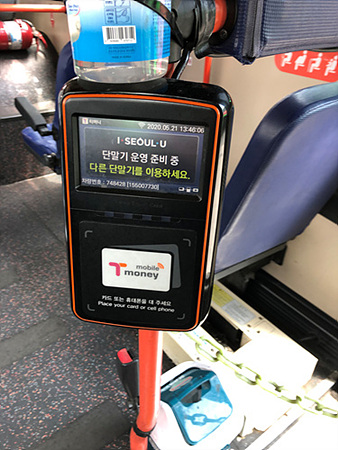terminal: (54, 78, 211, 324)
